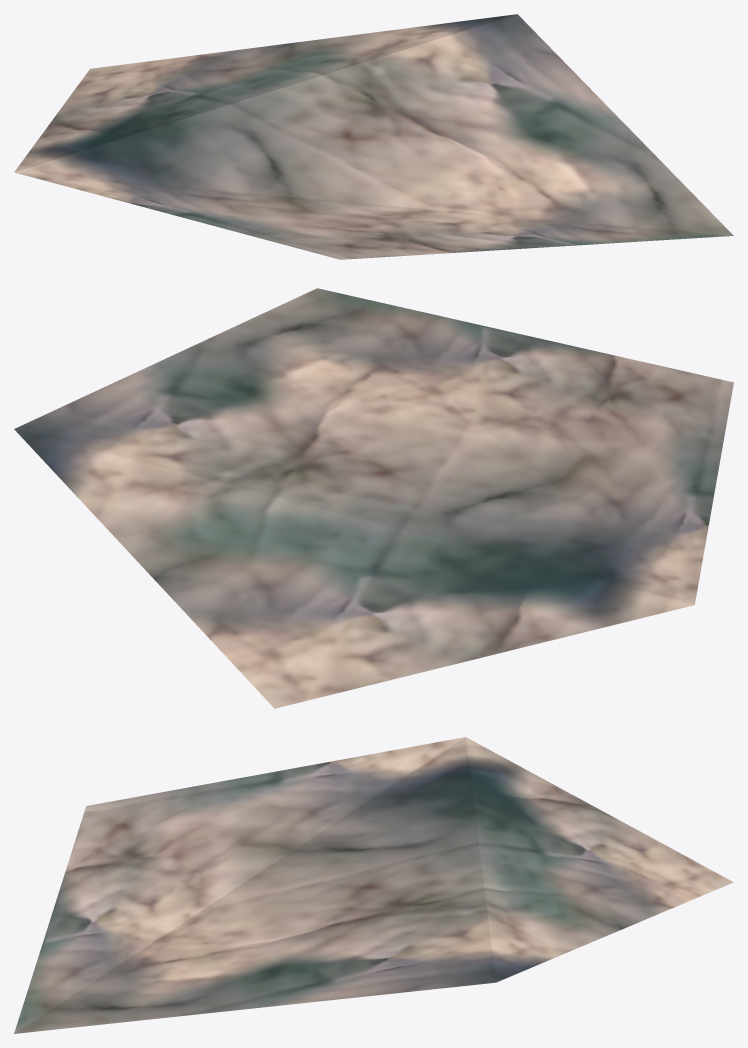
The model's file is Ridge_6_Top.gltf.
The picture shows the model from 3 angles, top to bottom: view 1: azimuth 30°, elevation 25°; view 2: azimuth 150°, elevation 25°; view 3: azimuth 270°, elevation 25°; orthographic projection. The views are drawn at different scales.
Parts seen in each view (by area): view 1: Ridge_6_Top; view 2: Ridge_6_Top; view 3: Ridge_6_Top.
Part boxes in pixels (box(x1,y1,x2,y2)): Ridge_6_Top: box(14, 14, 733, 259); Ridge_6_Top: box(14, 288, 733, 708); Ridge_6_Top: box(14, 737, 733, 1033).
Size of the model in its own units: 35.61 by 3.92 by 40.33.
Materials: 1 (1 with a texture image).
